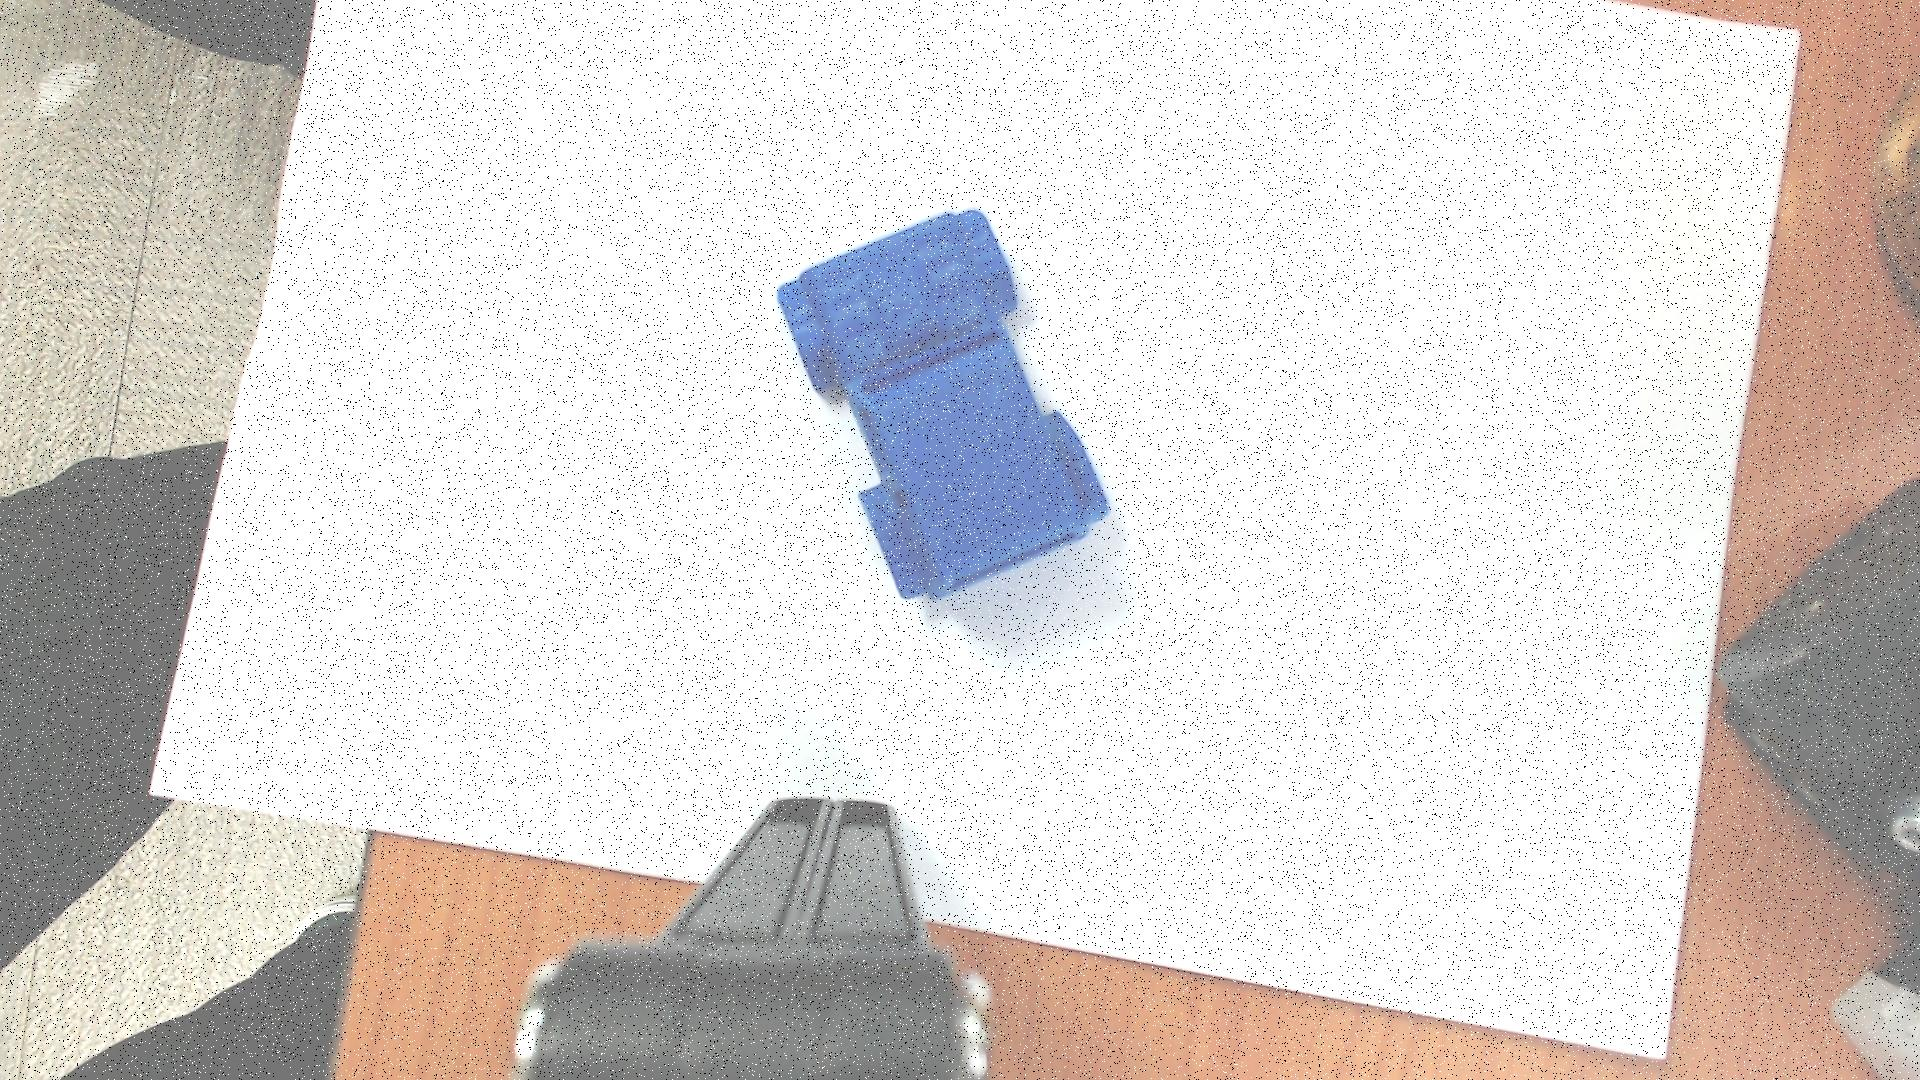Upper_ng: (777, 208, 1106, 597)
